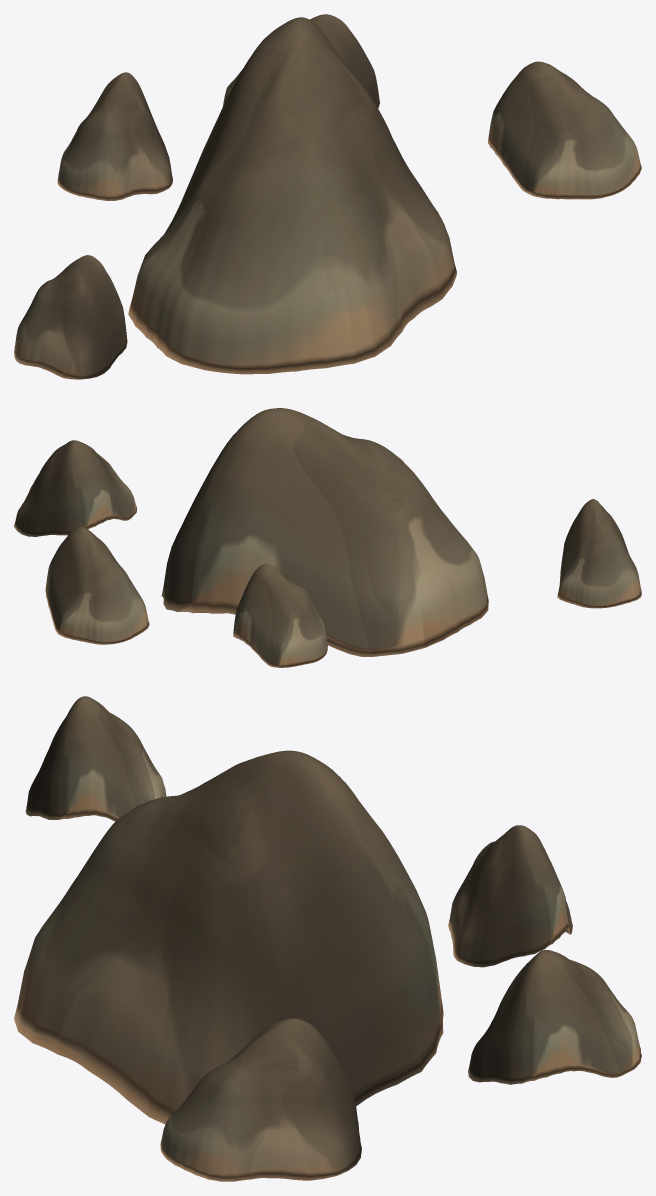
Rendered from Tas2.fbx.
The picture shows the model from 3 angles, top to bottom: view 1: azimuth 30°, elevation 25°; view 2: azimuth 150°, elevation 25°; view 3: azimuth 270°, elevation 25°; orthographic projection. The views are drawn at different scales.
Parts seen in each view (by area): view 1: Cube.039, Cube.057, Cube.059, Cube.058, Cube.056; view 2: Cube.039, Cube.056, Cube.057, Cube.058, Cube.059; view 3: Cube.039, Cube.057, Cube.056, Cube.058, Cube.059.
Boxes of the visible parts, x1=… form: Cube.039: x1=128, y1=17, x2=456, y2=374; Cube.057: x1=488, y1=61, x2=641, y2=199; Cube.059: x1=14, y1=255, x2=127, y2=379; Cube.058: x1=57, y1=72, x2=172, y2=200; Cube.056: x1=223, y1=14, x2=379, y2=108; Cube.039: x1=161, y1=408, x2=488, y2=656; Cube.056: x1=45, y1=526, x2=149, y2=644; Cube.057: x1=14, y1=440, x2=136, y2=536; Cube.058: x1=233, y1=564, x2=327, y2=667; Cube.059: x1=557, y1=499, x2=641, y2=608; Cube.039: x1=14, y1=750, x2=443, y2=1124; Cube.057: x1=160, y1=1018, x2=361, y2=1181; Cube.056: x1=468, y1=950, x2=641, y2=1084; Cube.058: x1=448, y1=825, x2=572, y2=967; Cube.059: x1=25, y1=696, x2=166, y2=821.
Size of the model in its own units: 821 by 297 by 541.
Materials: 1 (1 with a texture image).
